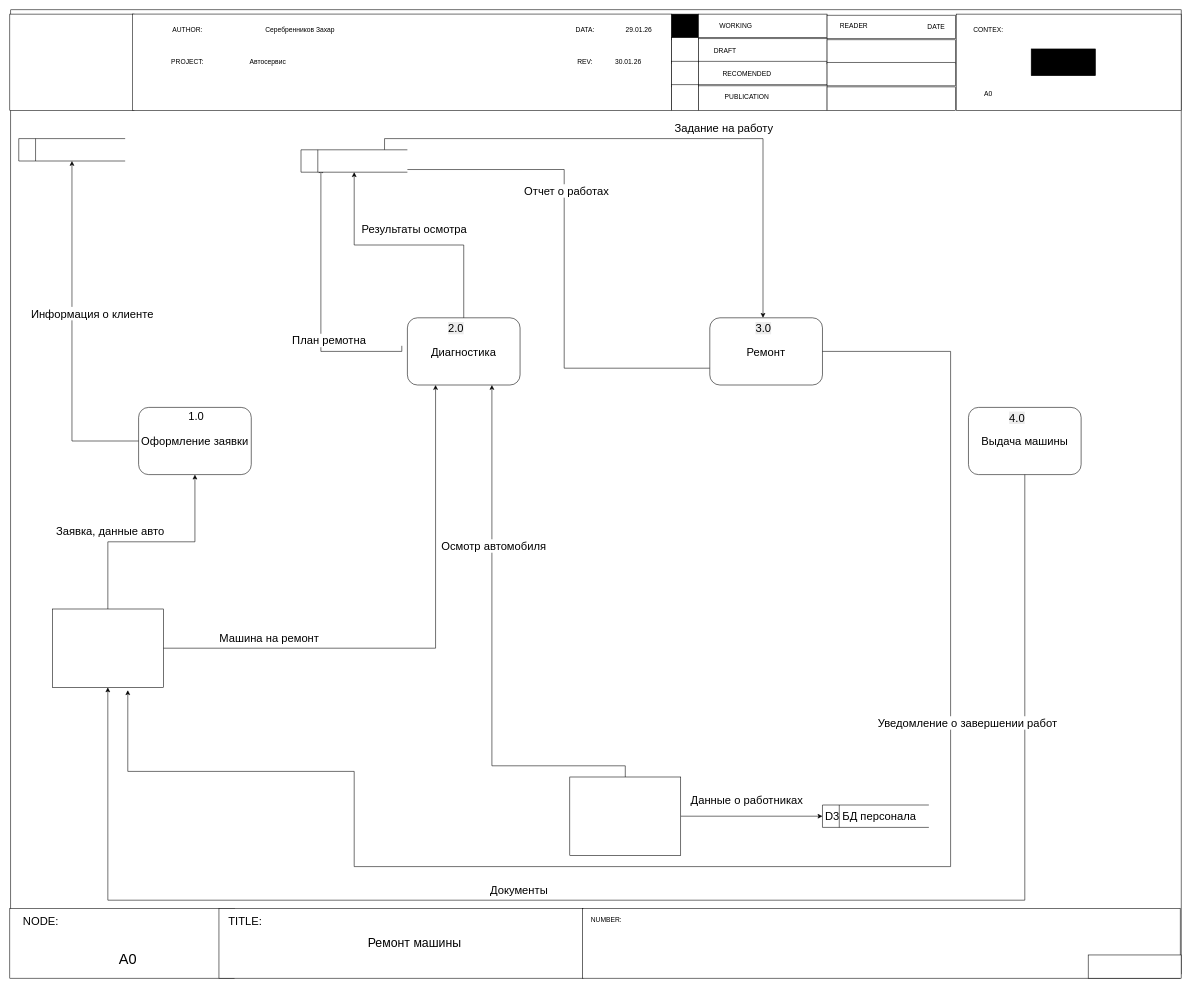
Some shapes in this 1191 by 988 pixel diagram are drawn without their labels. Here are the shapes that lost their labels. From the top down, the centre of each, then its label:
the point at 71,62: USED AT:
the point at 71,149: D1 БД клиентов
the point at 353,160: D2 БД работы
the point at 107,647: Клиент
the point at 625,815: Персонал сервиса
